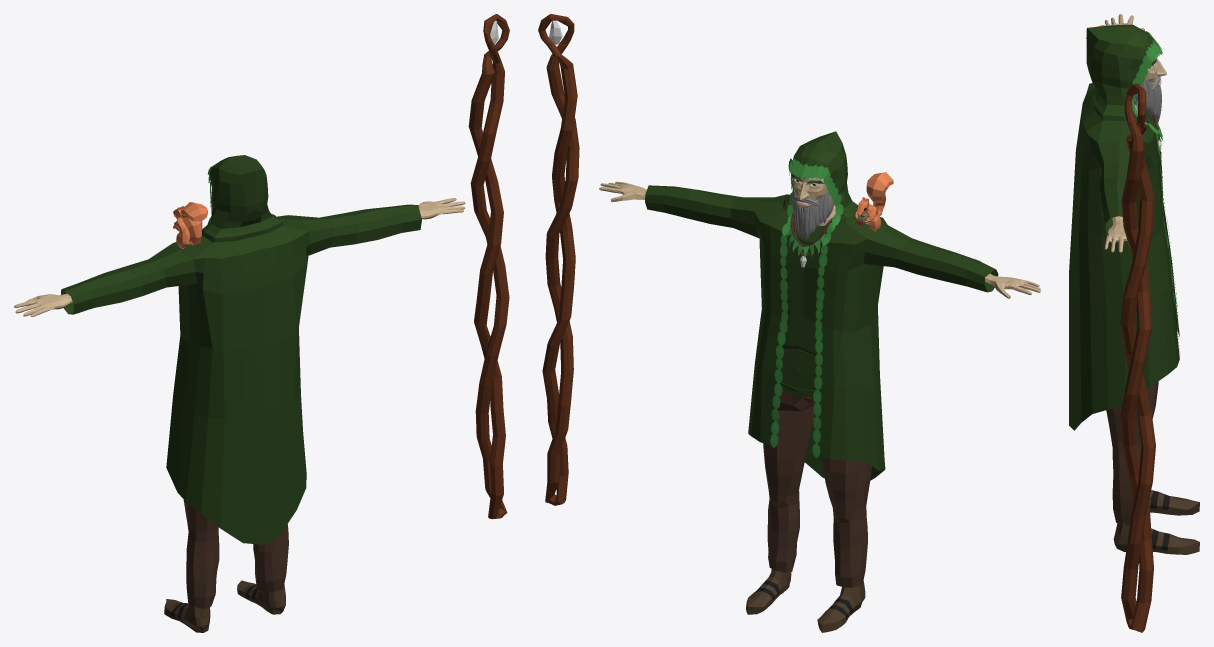
Rendered from druidhuman.fbx.
The picture shows the model from 3 angles, left to right: view 1: azimuth 30°, elevation 25°; view 2: azimuth 150°, elevation 25°; view 3: azimuth 270°, elevation 25°; orthographic projection. The views are drawn at different scales.
Parts seen in each view (by area): view 1: cloak, staff, pants, boots, body, squirrel; view 2: cloak, staff, pants, leaf.001, shirt, boots, body, Torus.002, squirrel; view 3: cloak, staff, pants, boots, body, leaf.001.
Part boxes in pixels (left/top/right/bottom): cloak: left=61, top=155, right=421, bottom=544; staff: left=468, top=14, right=509, bottom=519; pants: left=183, top=500, right=288, bottom=608; boots: left=164, top=580, right=285, bottom=632; body: left=14, top=187, right=465, bottom=317; squirrel: left=173, top=202, right=207, bottom=248; cloak: left=645, top=131, right=998, bottom=480; staff: left=538, top=14, right=579, bottom=505; pants: left=763, top=390, right=871, bottom=587; leaf.001: left=770, top=158, right=843, bottom=458; shirt: left=783, top=222, right=828, bottom=352; boots: left=746, top=569, right=865, bottom=632; body: left=599, top=171, right=1040, bottom=298; Torus.002: left=779, top=345, right=816, bottom=397; squirrel: left=855, top=172, right=893, bottom=231; cloak: left=1069, top=24, right=1179, bottom=430; staff: left=1120, top=83, right=1155, bottom=632; pants: left=1106, top=381, right=1158, bottom=525; boots: left=1113, top=490, right=1199, bottom=554; body: left=1104, top=14, right=1166, bottom=252; leaf.001: left=1132, top=31, right=1180, bottom=354.
Size of the model in its own units: 204 by 209 by 42.37.
Materials: 20 (3 with a texture image).
